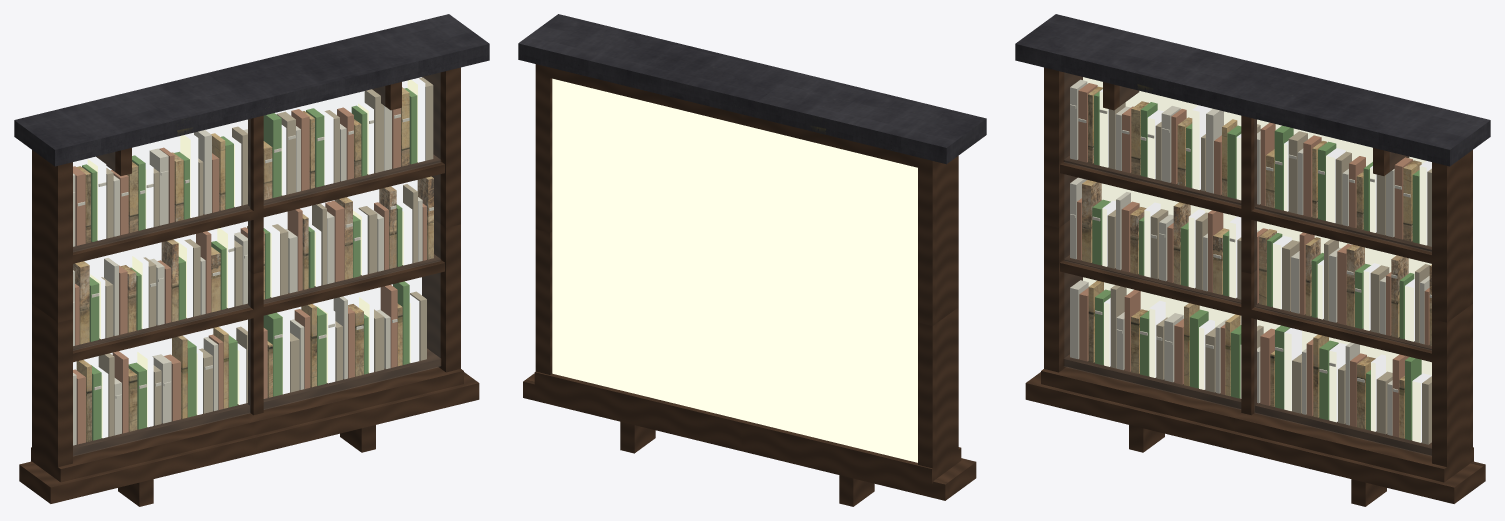
Rendered from opening_shop_books.glb.
3 views of the same model, side by side, from view 1: azimuth 30°, elevation 25°; view 2: azimuth 150°, elevation 25°; view 3: azimuth 330°, elevation 25° (orthographic).
Visible parts, largest first — view 1: opening_shop_books_0; view 2: opening_shop_books_0; view 3: opening_shop_books_0.
Boxes of the visible parts, left/top/right/bottom form: opening_shop_books_0: left=14, top=14, right=489, bottom=506; opening_shop_books_0: left=518, top=14, right=986, bottom=506; opening_shop_books_0: left=1015, top=14, right=1490, bottom=506.
Bounding box in the file's own units: 2.74 × 2.36 × 0.445.
Materials: 9 (3 with a texture image).
